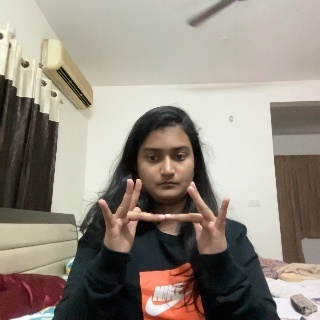Internet: (101, 175, 238, 280)
